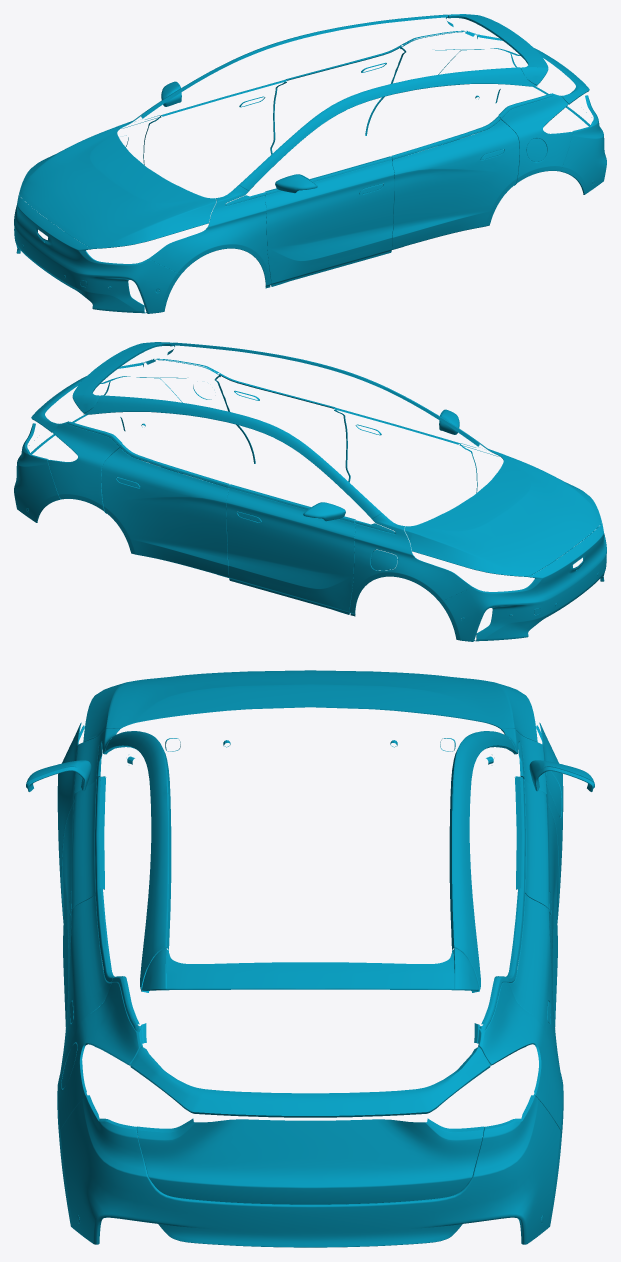
The model's file is cheshen.glb.
3 views of the same model, one above another, from view 1: azimuth 30°, elevation 25°; view 2: azimuth 150°, elevation 25°; view 3: azimuth 270°, elevation 25° (orthographic). The views are drawn at different scales.
Visible parts, largest first — view 1: jinshuyansecheshen, jinshuyansecheshen2, jinshuyansehoushijingzhao; view 2: jinshuyansecheshen, jinshuyansecheshen2, jinshuyansehoushijingzhao; view 3: jinshuyansecheshen, jinshuyansecheshen2, jinshuyansehoushijingzhao.
Part boxes in pixels (bbox=[...]): jinshuyansecheshen: bbox=[14, 30, 606, 313]; jinshuyansecheshen2: bbox=[141, 14, 548, 190]; jinshuyansehoushijingzhao: bbox=[161, 81, 317, 193]; jinshuyansecheshen: bbox=[14, 358, 606, 641]; jinshuyansecheshen2: bbox=[72, 342, 479, 518]; jinshuyansehoushijingzhao: bbox=[303, 409, 459, 521]; jinshuyansecheshen: bbox=[57, 670, 563, 1247]; jinshuyansecheshen2: bbox=[105, 731, 515, 992]; jinshuyansehoushijingzhao: bbox=[26, 760, 594, 791].
Bounding box in the file's own units: 439 × 120 × 205.
